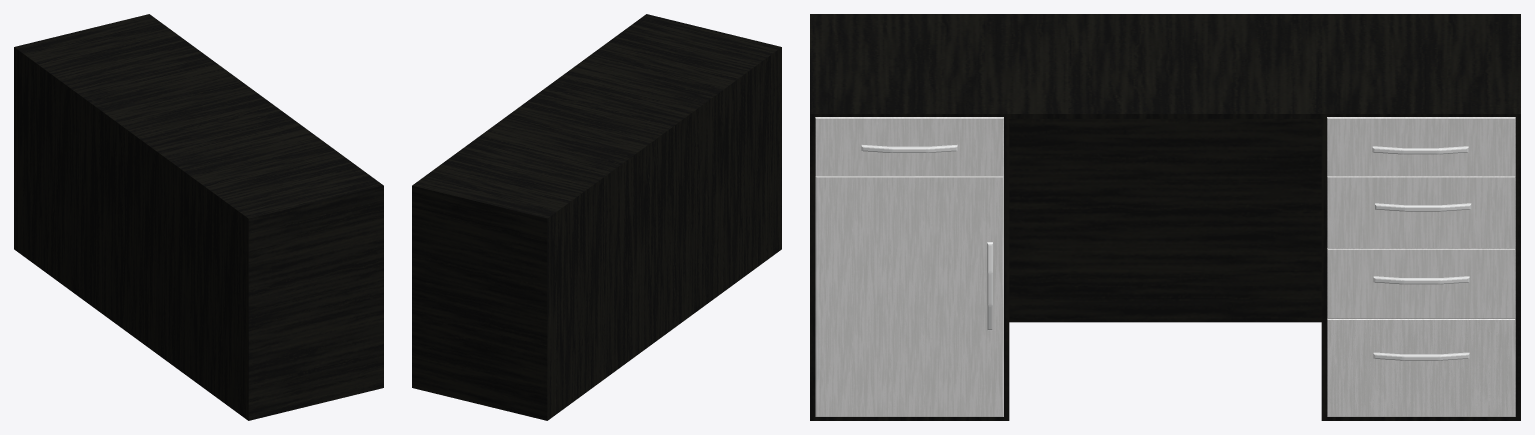
File: table.glb
3 renders of one model, left to right at view 1: azimuth 30°, elevation 25°; view 2: azimuth 150°, elevation 25°; view 3: azimuth 270°, elevation 25°, orthographic. The views are drawn at different scales.
Visible parts, largest first — view 1: Stol; view 2: Stol; view 3: Stol, 6_0, 5_0, 3_0, 4_0, 2_0, 1_0.
Part boxes in pixels (bbox=[...]): Stol: bbox=[14, 14, 383, 420]; Stol: bbox=[412, 14, 781, 420]; Stol: bbox=[810, 14, 1520, 420]; 6_0: bbox=[815, 176, 1003, 416]; 5_0: bbox=[1327, 319, 1515, 416]; 3_0: bbox=[1327, 176, 1515, 248]; 4_0: bbox=[1327, 248, 1515, 318]; 2_0: bbox=[1327, 117, 1515, 176]; 1_0: bbox=[815, 117, 1003, 176].
Size of the model in its own units: 0.6867 by 0.936 by 1.97.
7 materials, 7 textured.
